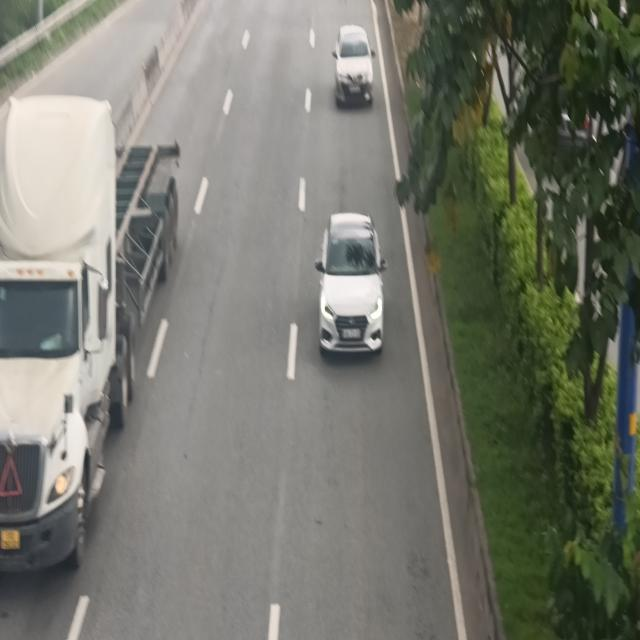car: (316, 210, 387, 362), (334, 23, 376, 109)
container: (0, 96, 179, 582)
